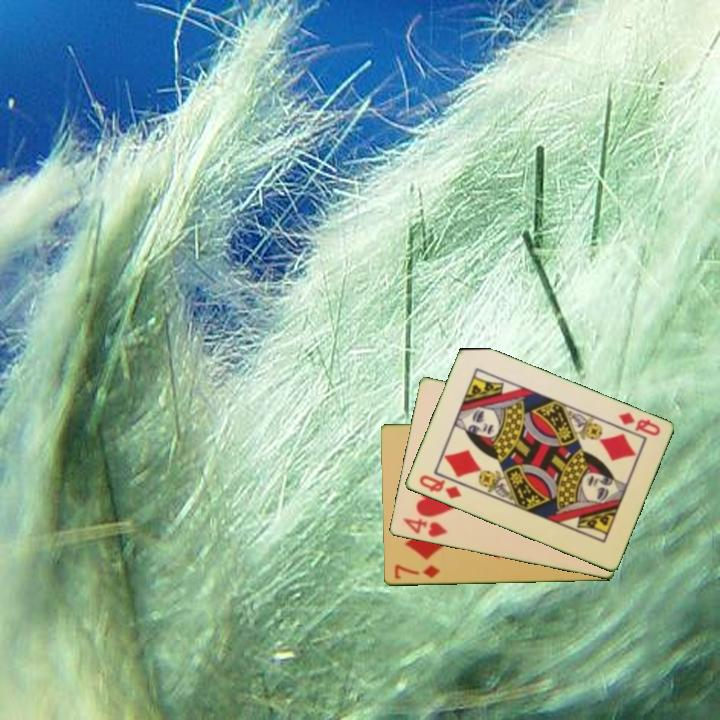4h: (399, 515, 450, 540)
7d: (391, 561, 442, 582)
Qd: (415, 472, 464, 502), (615, 409, 663, 439)
